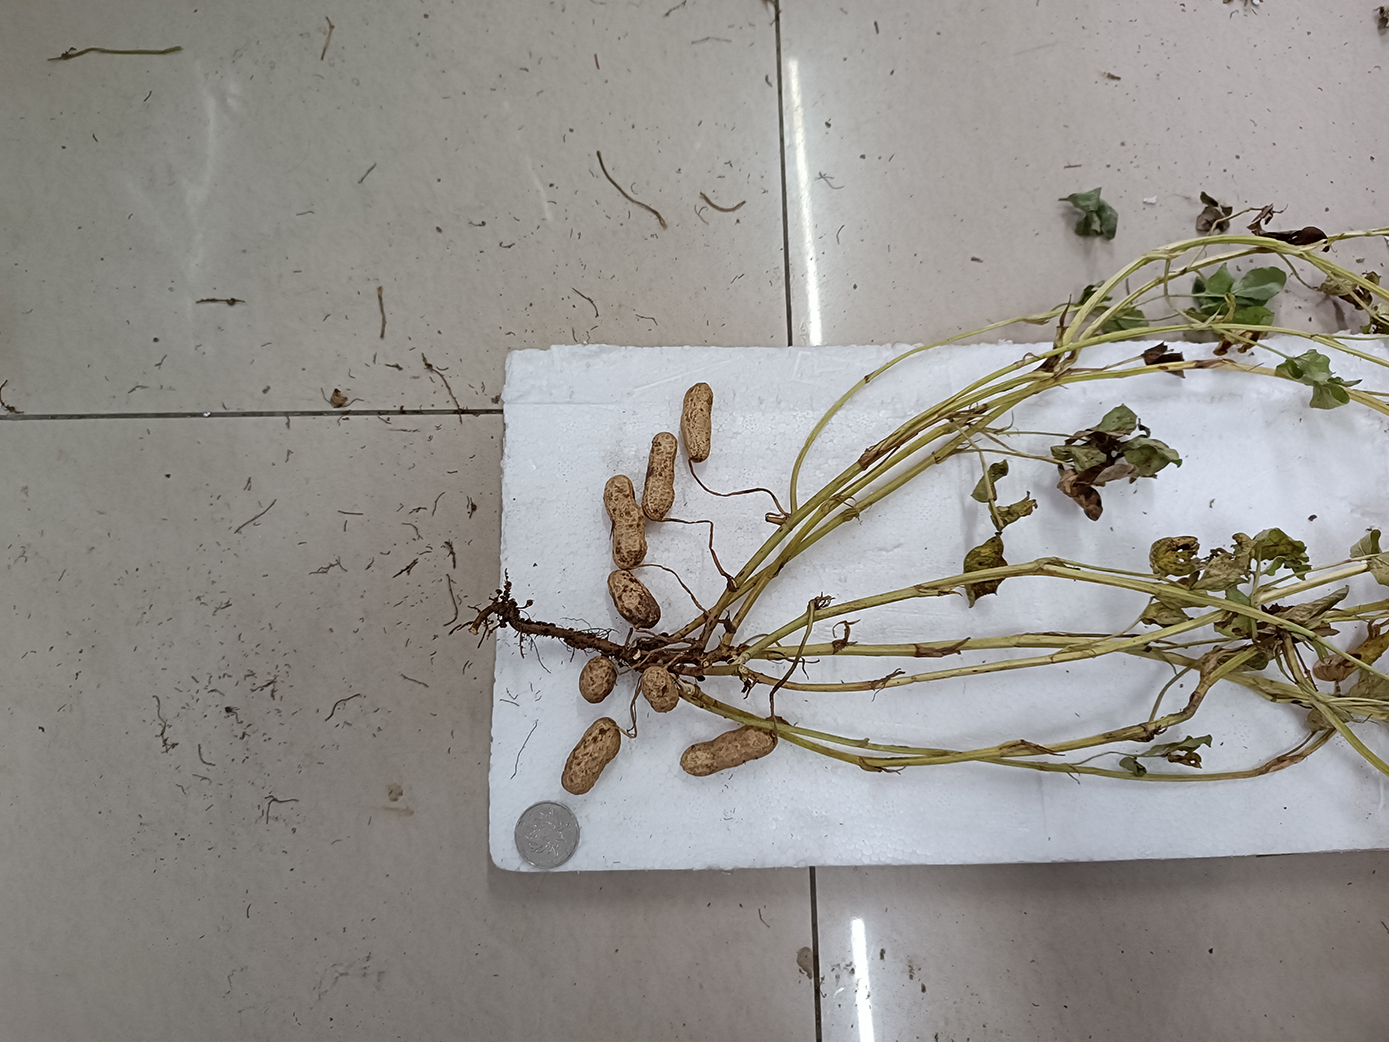h: (680, 726, 777, 775), (558, 717, 621, 794), (602, 476, 648, 569), (641, 431, 678, 522), (607, 567, 661, 626), (680, 383, 715, 464), (578, 657, 618, 702), (640, 665, 679, 713)
